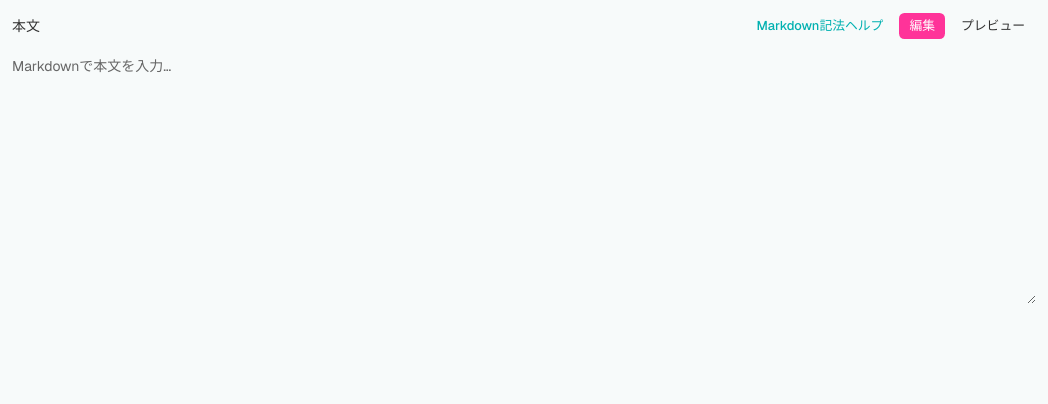
Test case: MarkdownEditor › inserts the selected candidate into the controlled textarea
Type "参照: [ [夏目金" into the text box labelled "本文". click: (524, 176)
box: [12,48,1036,304]
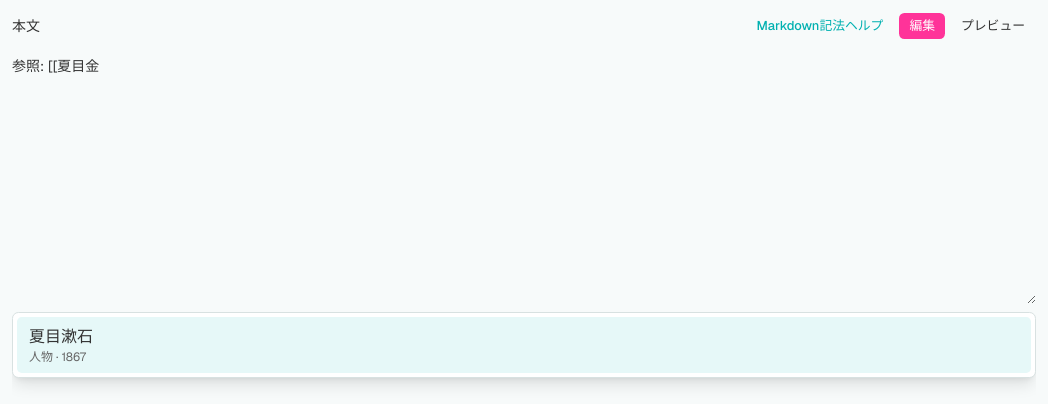
Click the option "夏目漱石 人物 · 1867". click: (61, 336)
box: [17,317,1031,373]
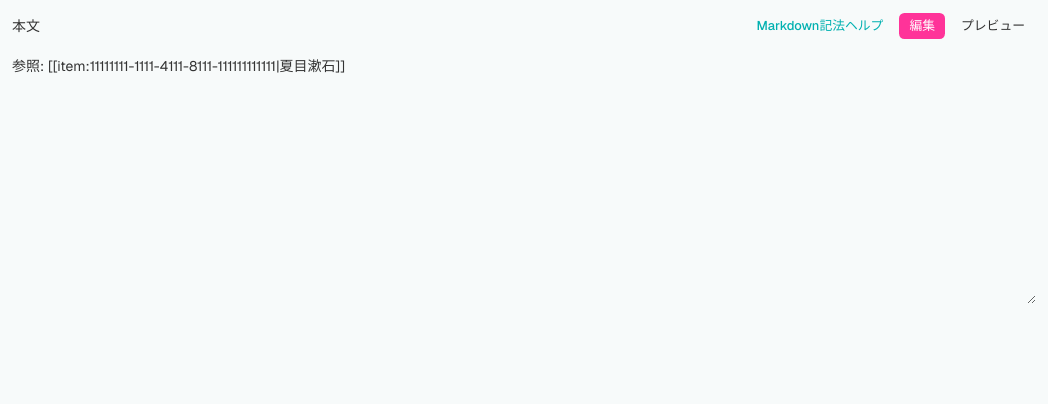
Result: the text box labelled "本文" holds "参照: [ [item:11111111-1111-4111-8111-111111111111|夏目漱石]]"
